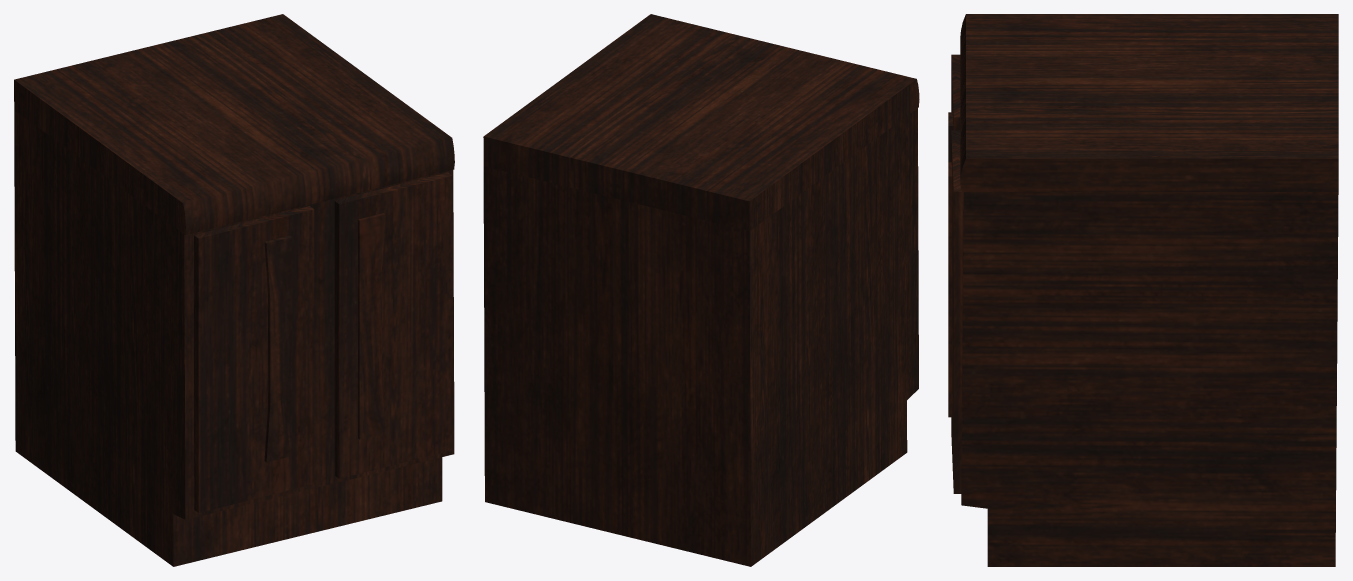
File: Alacena2.obj
3 views of the same model, side by side, from view 1: azimuth 30°, elevation 25°; view 2: azimuth 150°, elevation 25°; view 3: azimuth 270°, elevation 25° (orthographic). The views are drawn at different scales.
Visible parts, largest first — view 1: Cabinet_8:caninet_2; view 2: Cabinet_8:caninet_2; view 3: Cabinet_8:caninet_2.
Boxes of the visible parts, bbox=[...] form: Cabinet_8:caninet_2: bbox=[14, 14, 454, 566]; Cabinet_8:caninet_2: bbox=[483, 14, 919, 566]; Cabinet_8:caninet_2: bbox=[948, 14, 1338, 566].
Bounding box in the file's own units: 2.83 × 3.73 × 3.23.
